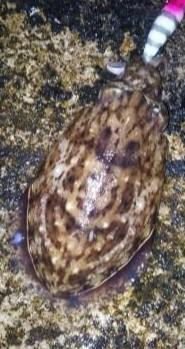Cephalopod: (18, 56, 169, 307)
